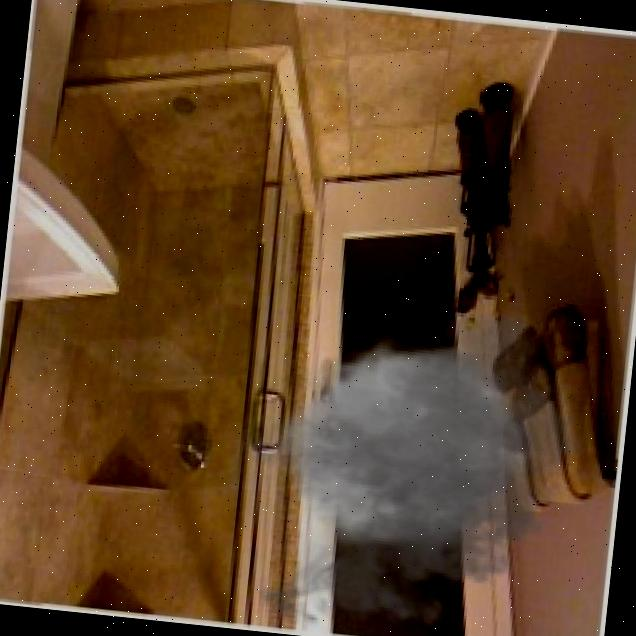smoke: (190, 269, 619, 636)
